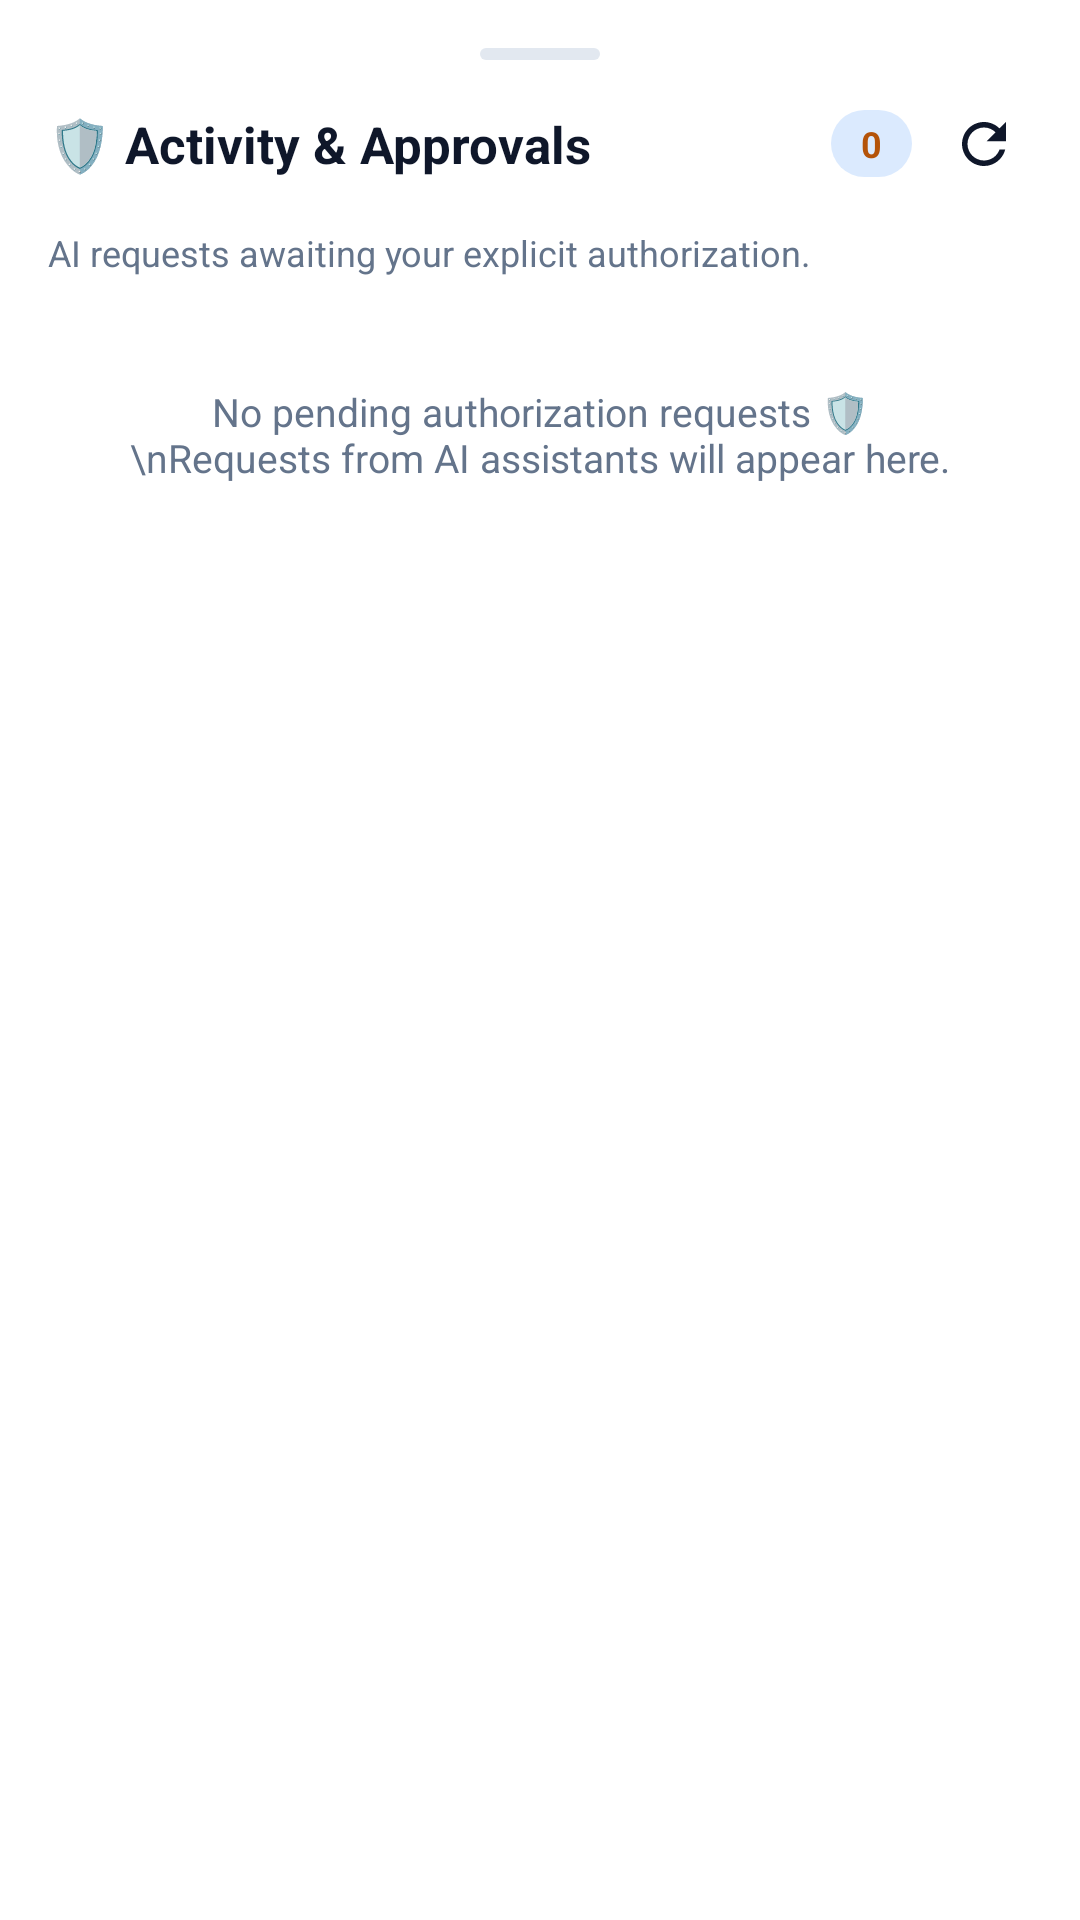

Where to tap for icons on this 1080px x 1920px app screen, as (x,y):
Refresh Approvals: (984,144)
